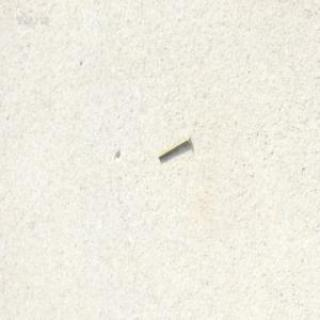Bolttrack_idkeyframe: (157, 132, 190, 159)
